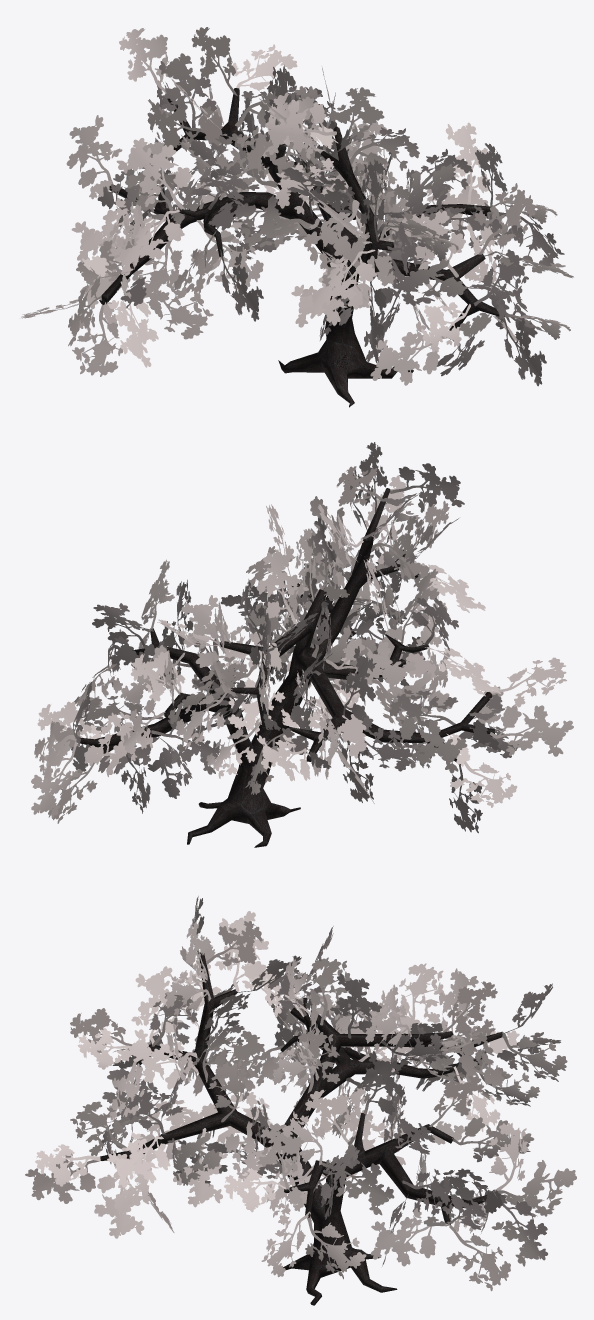
File: arbol6.obj
3 renders of one model, top to bottom at view 1: azimuth 30°, elevation 25°; view 2: azimuth 150°, elevation 25°; view 3: azimuth 270°, elevation 25°, orthographic. The views are drawn at different scales.
Parts seen in each view (by area): view 1: LEAVES, SAKURA_TREE; view 2: LEAVES, SAKURA_TREE; view 3: LEAVES, SAKURA_TREE.
Boxes of the visible parts, x1,y1,x2,y2 form: LEAVES: (21,27,573,386); SAKURA_TREE: (99,88,504,407); LEAVES: (31,442,573,833); SAKURA_TREE: (80,488,494,847); LEAVES: (25,896,576,1291); SAKURA_TREE: (100,952,502,1305).
Bounding box in the file's own units: 7.73 × 5.49 × 8.3.
